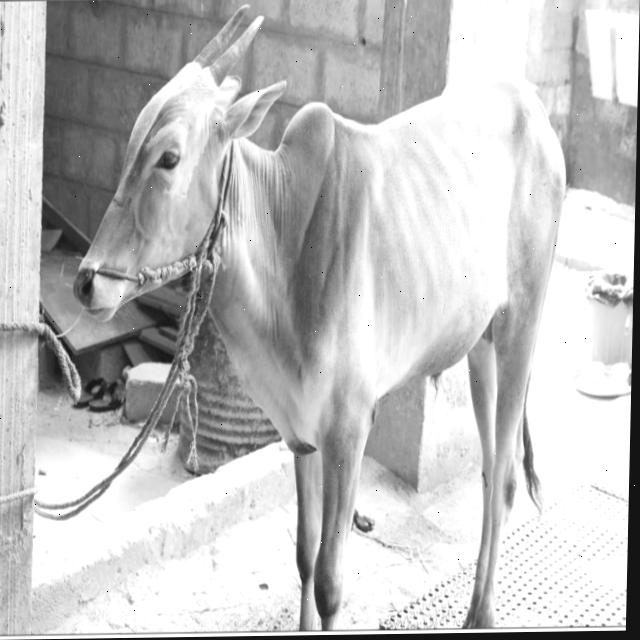Cow: (59, 0, 572, 636)
